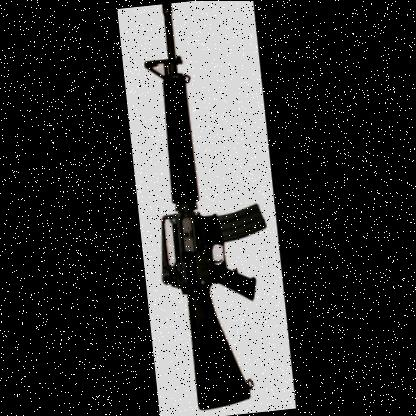rifle: (128, 0, 286, 416)
